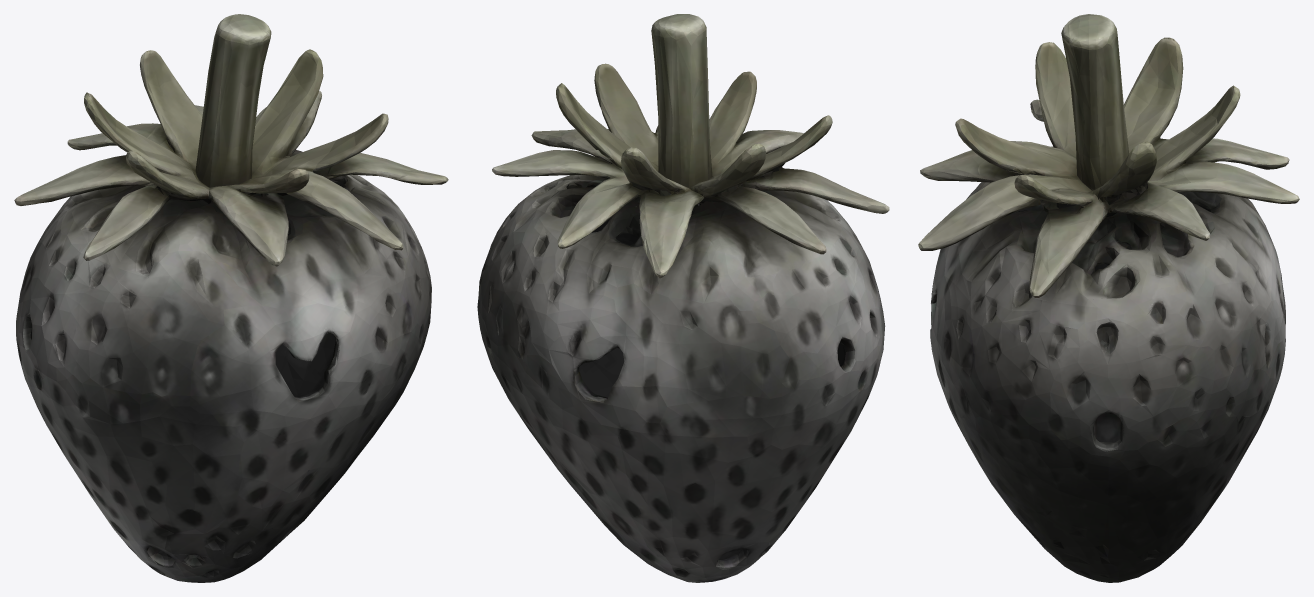
Rendered from strawberry.glb.
3 renders of one model, left to right at view 1: azimuth 30°, elevation 25°; view 2: azimuth 150°, elevation 25°; view 3: azimuth 270°, elevation 25°, orthographic. The views are drawn at different scales.
Visible parts, largest first — view 1: world; view 2: world; view 3: world.
Part boxes in pixels (left/top/right/bottom): world: left=14, top=14, right=448, bottom=582; world: left=477, top=14, right=889, bottom=582; world: left=918, top=14, right=1299, bottom=582.
Bounding box in the file's own units: 0.7029 × 0.9988 × 0.606.
Materials: 1 (1 with a texture image).
